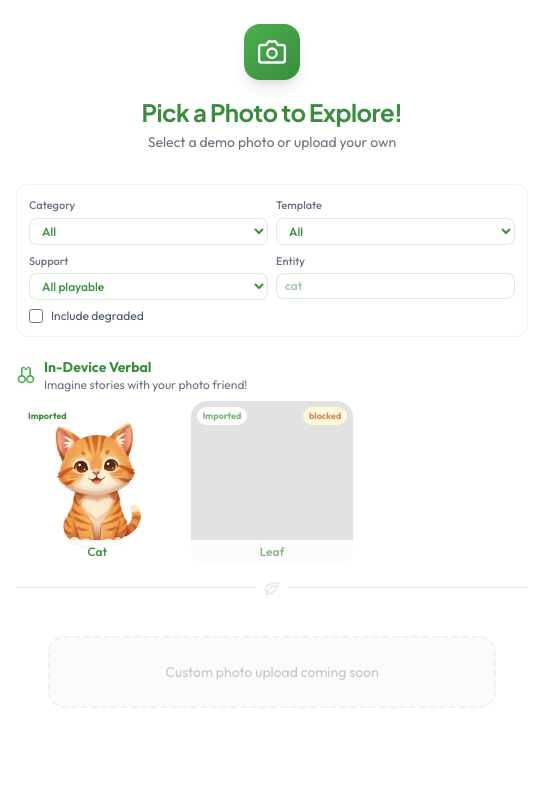
Test case: PhotoSelector autodesign activities › shows supported imports by default and gates degraded imports behind an explicit toggle
Expected: the 1st text "Imported" is shown, top-left (22, 407), bottom-right (73, 424)
Expected: the button named "Cat Cat Imported" is shown, top-left (16, 401), bottom-right (179, 564)
Click the checkbox labelled "Include degraded". click: (36, 316)
box: top-left (29, 309), bottom-right (43, 323)
(page scrolled)
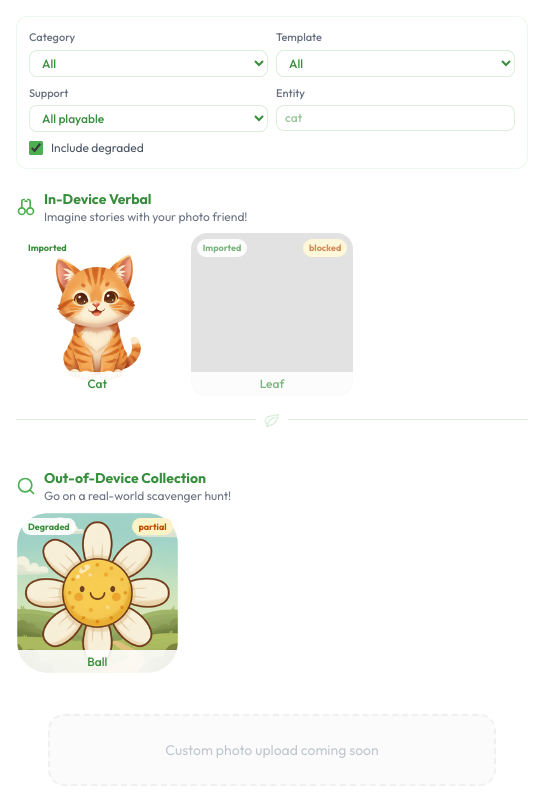
Now the button named "Ball Ball Degraded partial" is shown, box top-left (16, 512), bottom-right (179, 674)
